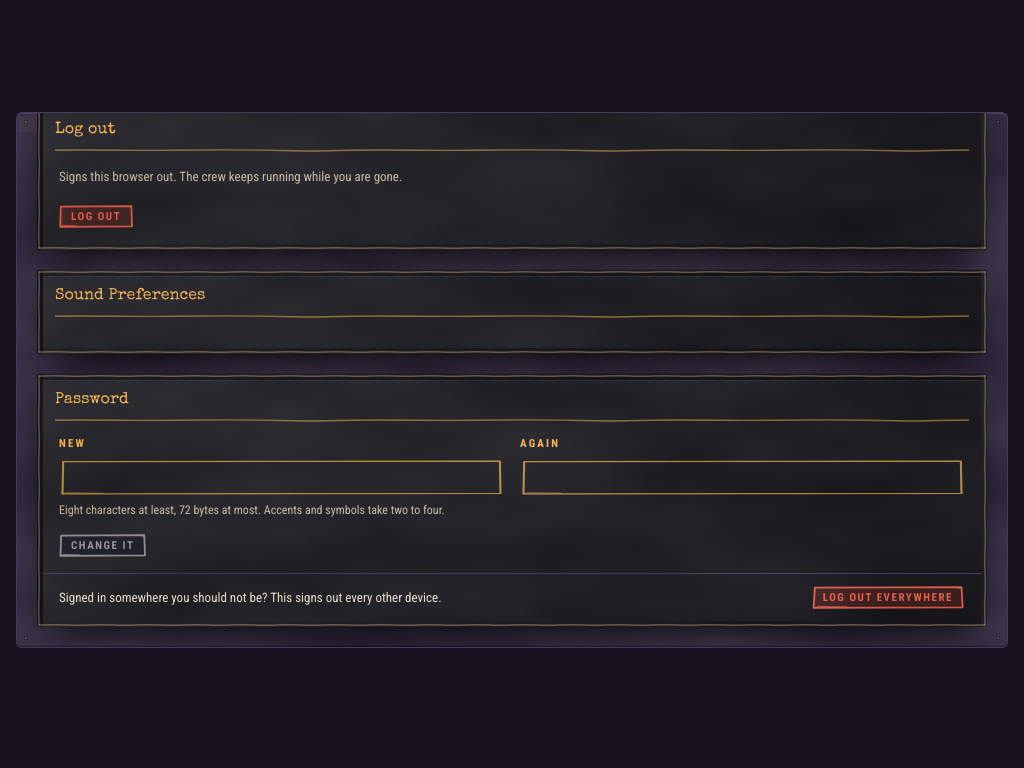
Test: logging out everywhere › asks the server to end every other session, and says it did
This screenshot has width=1024, height=768.
(page scrolled)
Click the button with test id "settings-logout-everywhere": click(888, 598) x1=811 y1=586 x2=965 y2=609
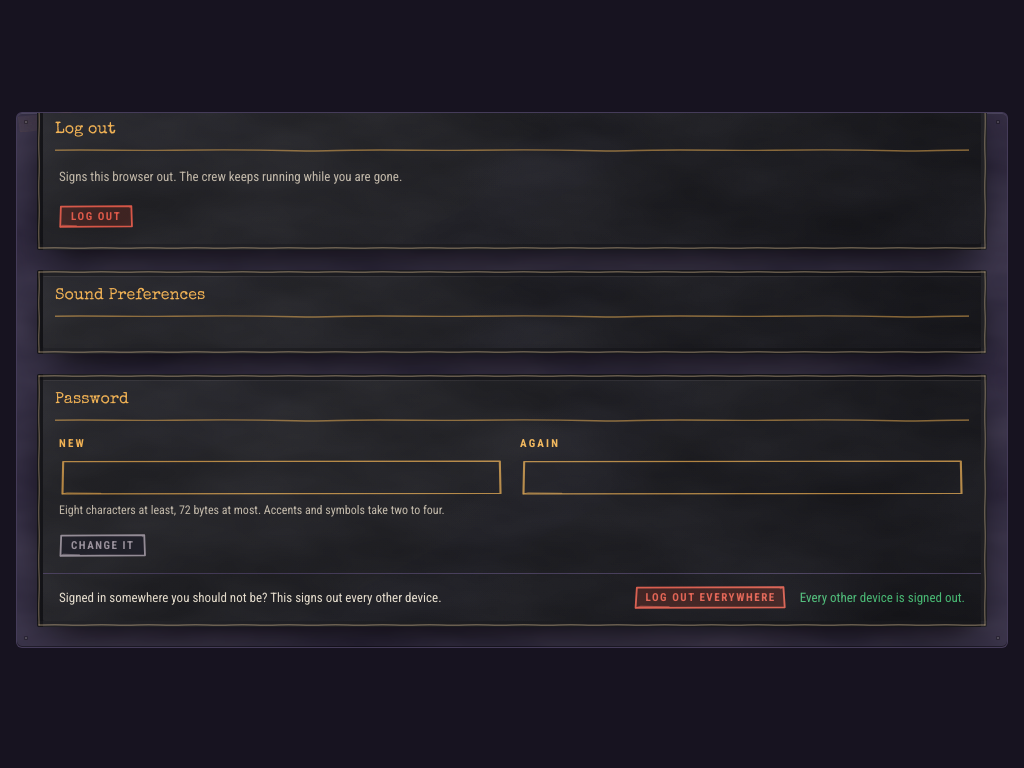
Expected: the text "Every other device is signed out." is shown, x1=800 y1=588 x2=965 y2=608
